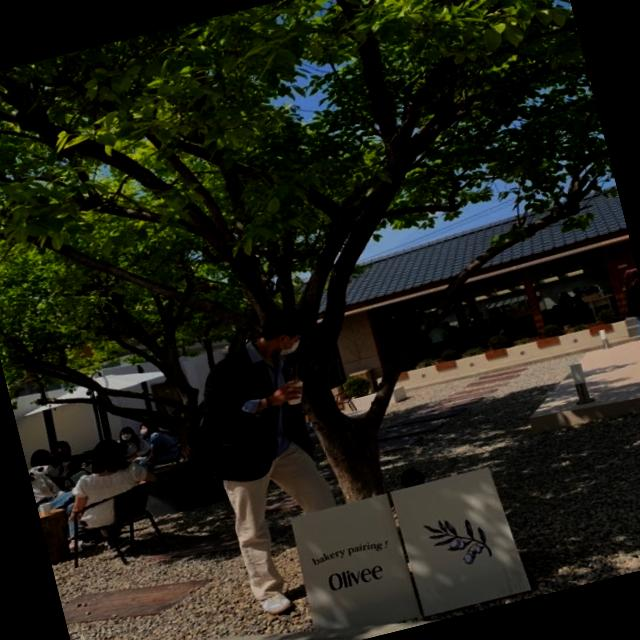blazer: (175, 330, 325, 490)
cottonpants: (212, 423, 354, 605)
